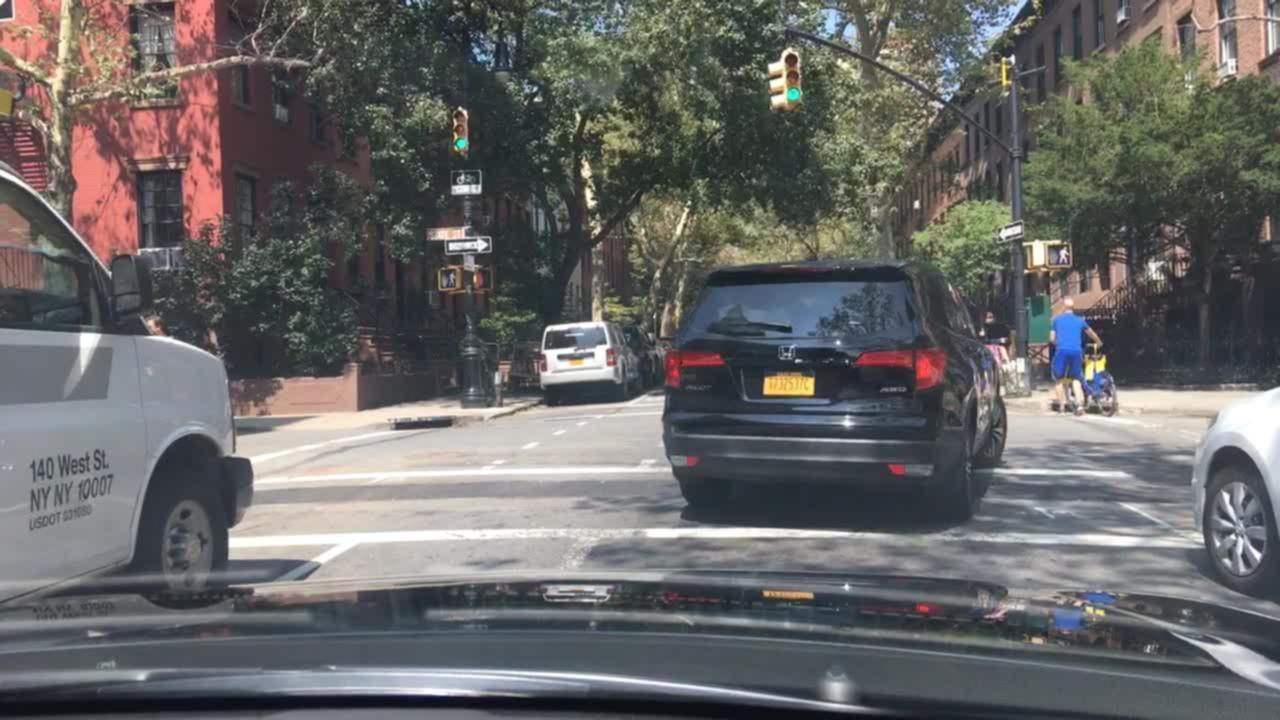Honda: (774, 335, 800, 367)
